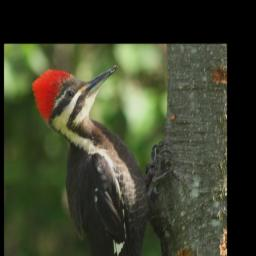Woodpecker: (33, 64, 170, 256)
